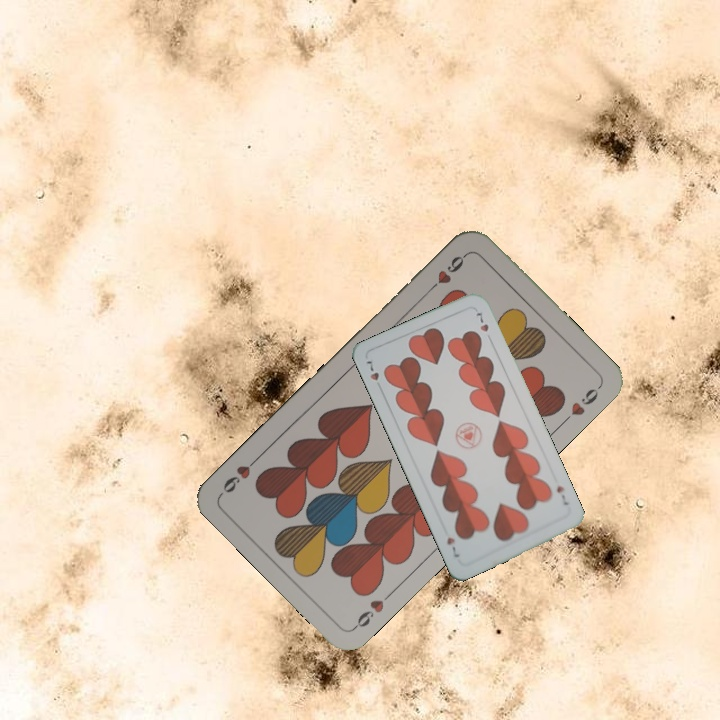H7: (362, 357, 382, 383), (552, 482, 571, 508)
H9: (349, 586, 397, 632), (424, 248, 471, 294)
